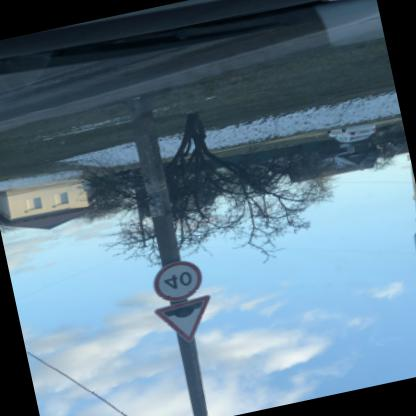speedlimit: (146, 257, 206, 306)
